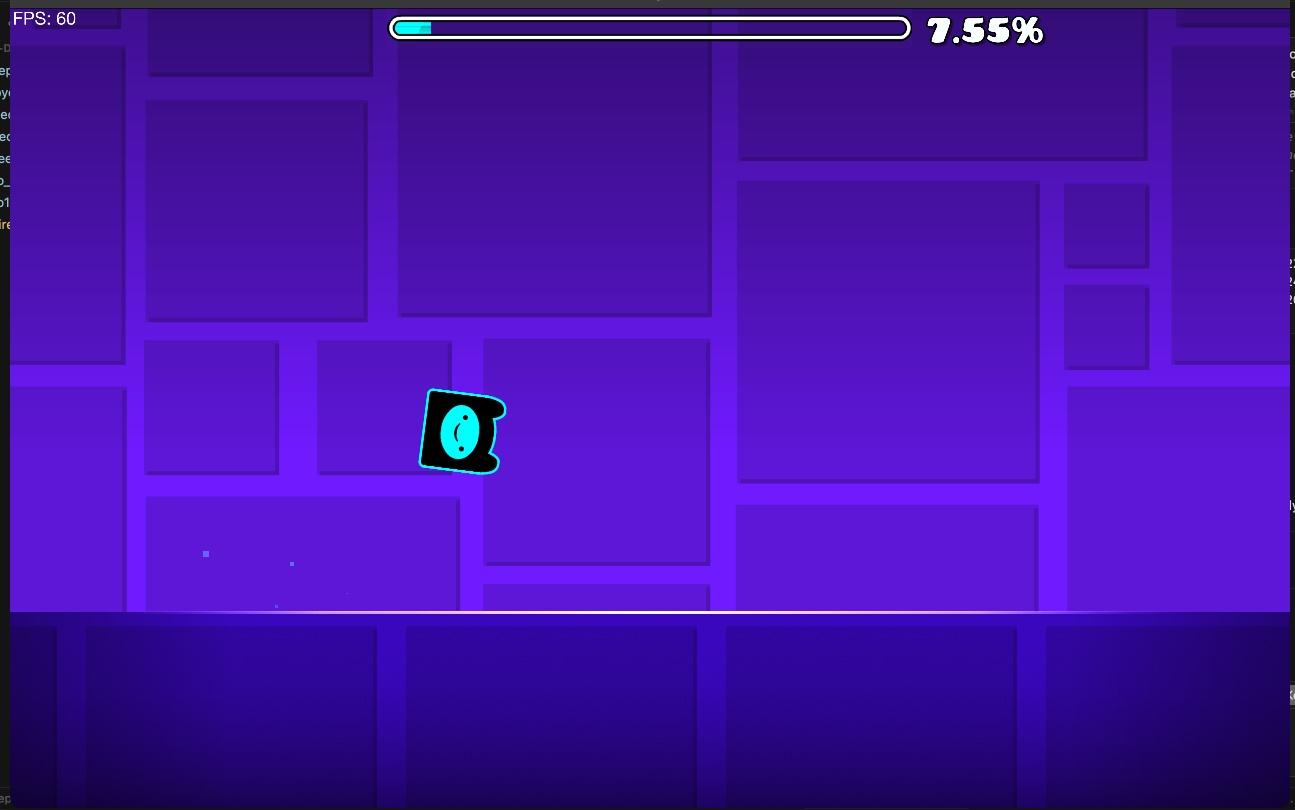player: (420, 389, 505, 474)
